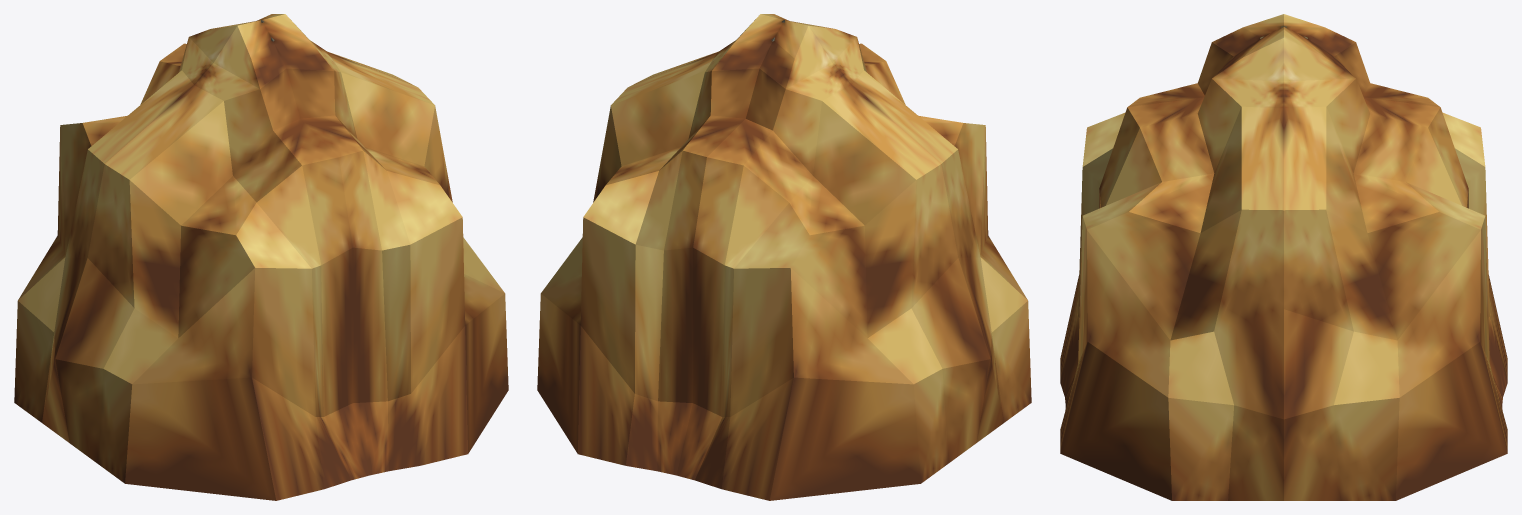
File: Poly_Gold_Rock_01.obj
3 views of the same model, side by side, from view 1: azimuth 30°, elevation 25°; view 2: azimuth 150°, elevation 25°; view 3: azimuth 270°, elevation 25° (orthographic).
Parts seen in each view (by area): view 1: Cube; view 2: Cube; view 3: Cube.
Boxes of the visible parts, x1,y1,x2,y2 form: Cube: (14,14,508,500); Cube: (537,14,1031,500); Cube: (1060,14,1507,500).
Bounding box in the file's own units: 0.86 × 0.752 × 0.8.
1 material, 1 textured.
